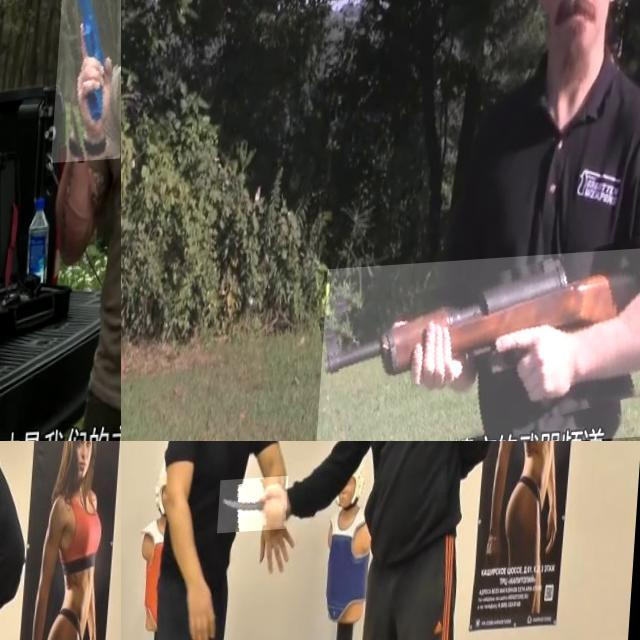-: (222, 480, 293, 536), (0, 471, 29, 572)
gun-knife-thesis - v11 Yolov5 augmented: (324, 254, 640, 441), (55, 0, 121, 168)
